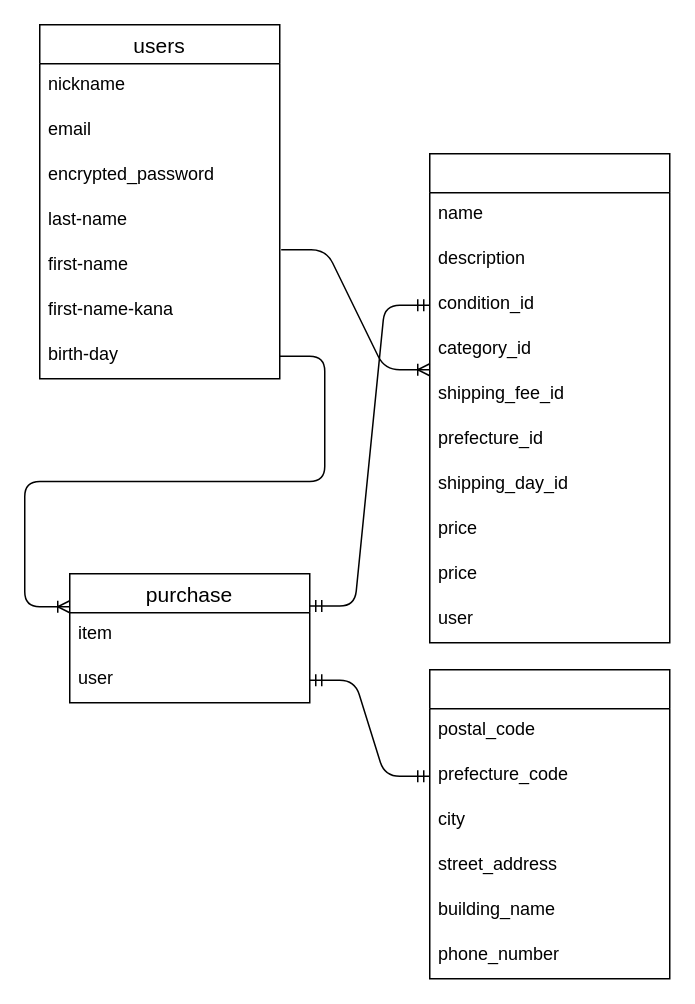
The diagram is 695 pixels wide and 1004 high, and some of its shapes have lost their labels. The shapes that lost their labels are listed below. From the top down, each one's box as (x1, y1, x2, y2) in pixels, then its label:
(428, 152, 670, 643): items
(428, 668, 670, 979): shipping
